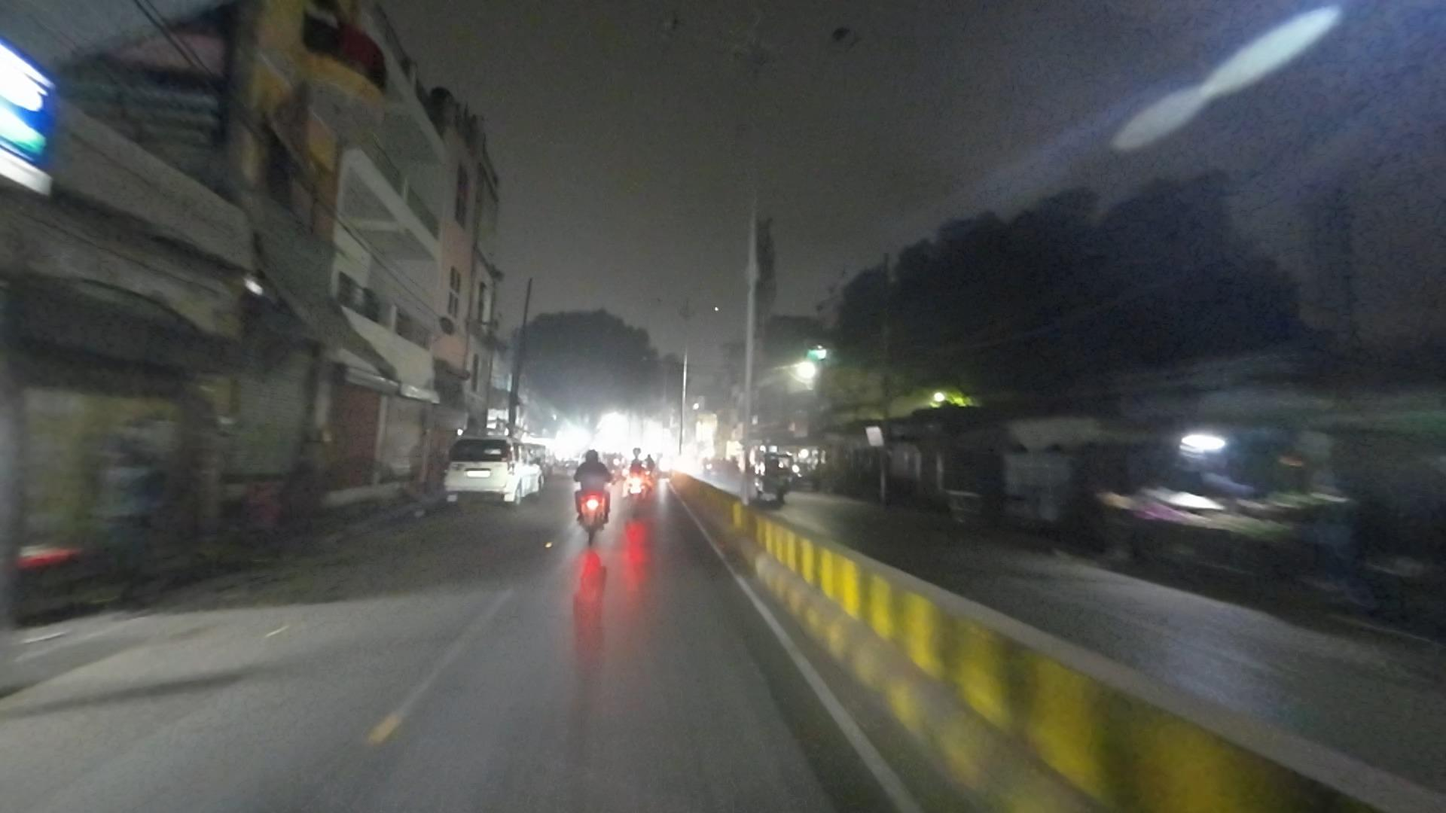streetlight: (651, 2, 750, 52), (778, 14, 870, 57)
